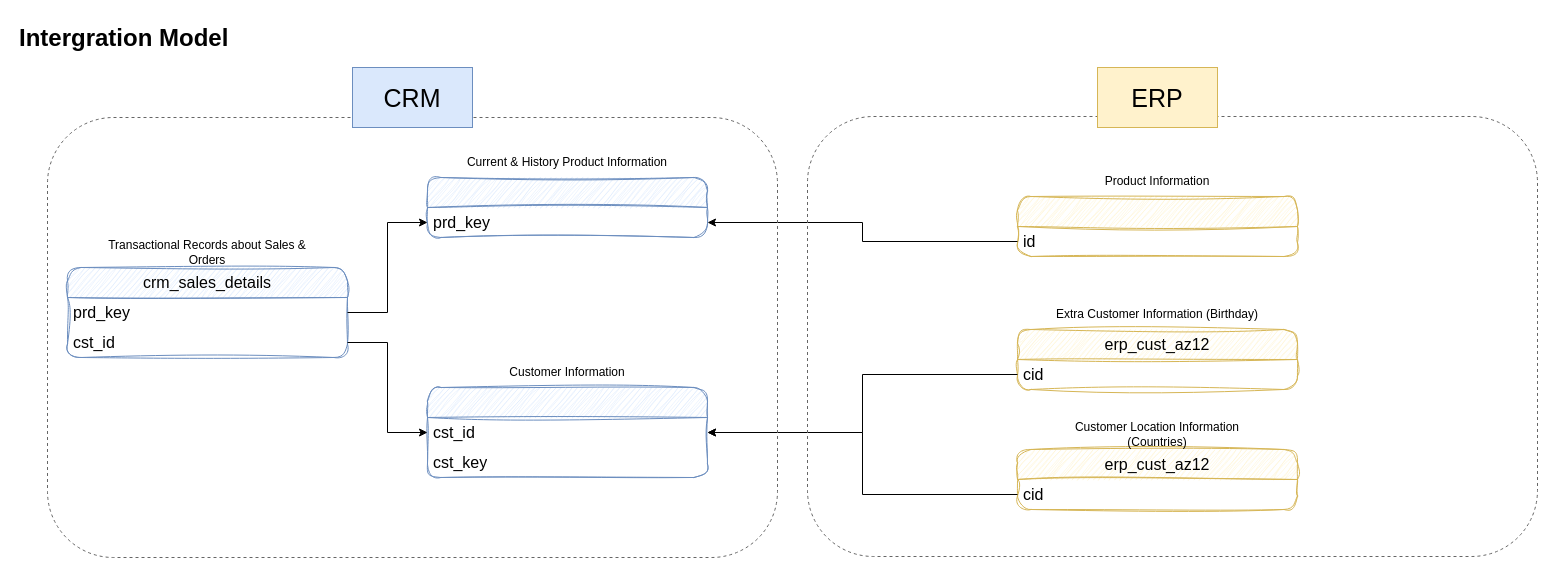
Image size: 1555x575. Some labels were removed from this diagram. The box of each missing label's shape, as (x1, y1, x2, y2) in pixels:
crm_cust_info: (426, 386, 708, 478)
crm_prd_info: (426, 176, 708, 238)
erp_px_cat_g1v2: (1016, 196, 1298, 256)
